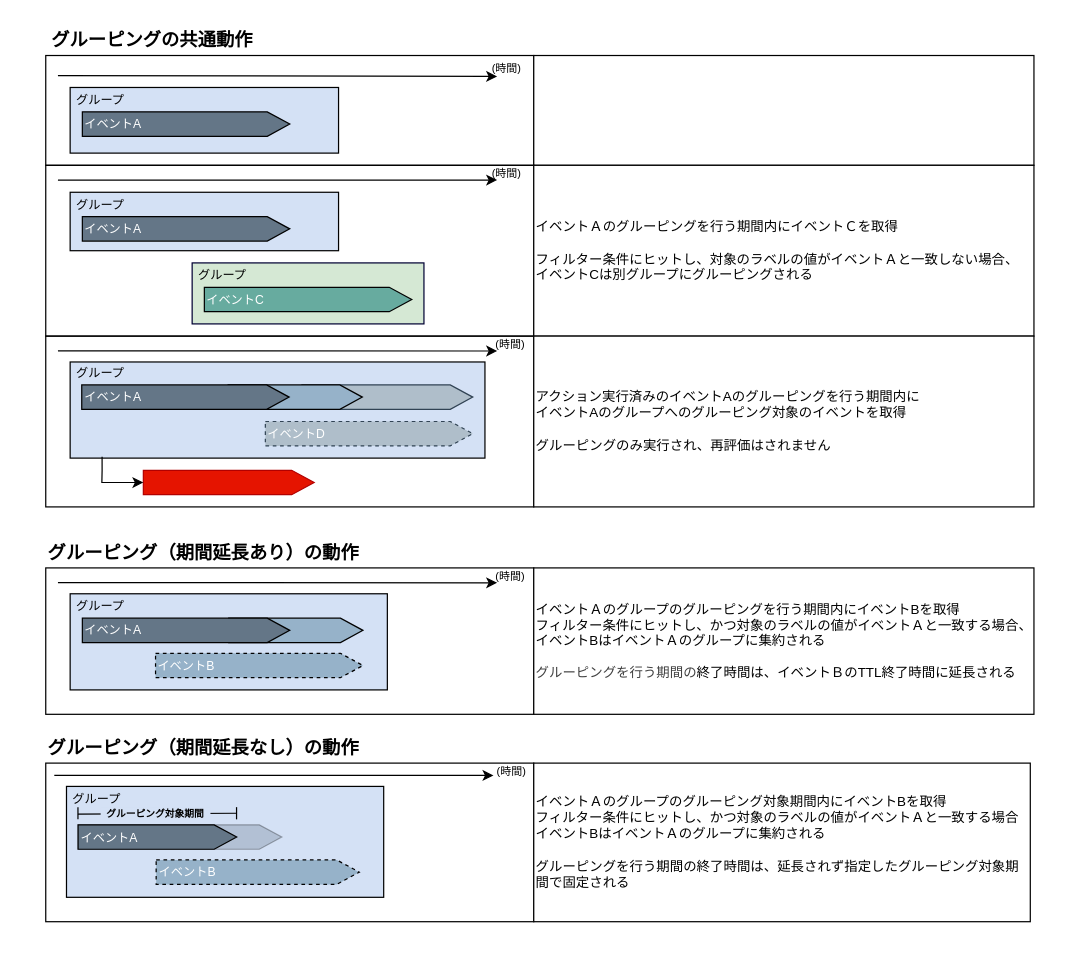
Image size: 1071x967. Some labels were removed from this diagram. The shapes that lost their labels are listed below. From the top down, each one's box as (x1, y1, x2, y2) in pixels, then its label:
(533, 54, 1034, 165): フィルター条件にヒットする場合、イベントAをグルーピング （1件でもグルーピングされる）
(142, 469, 314, 495): アクション
